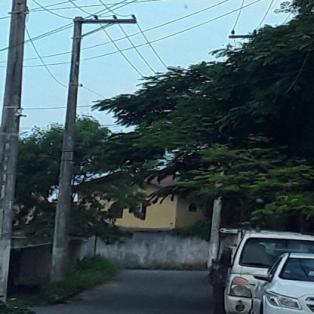Poste: (43, 14, 90, 295), (0, 0, 44, 299)
